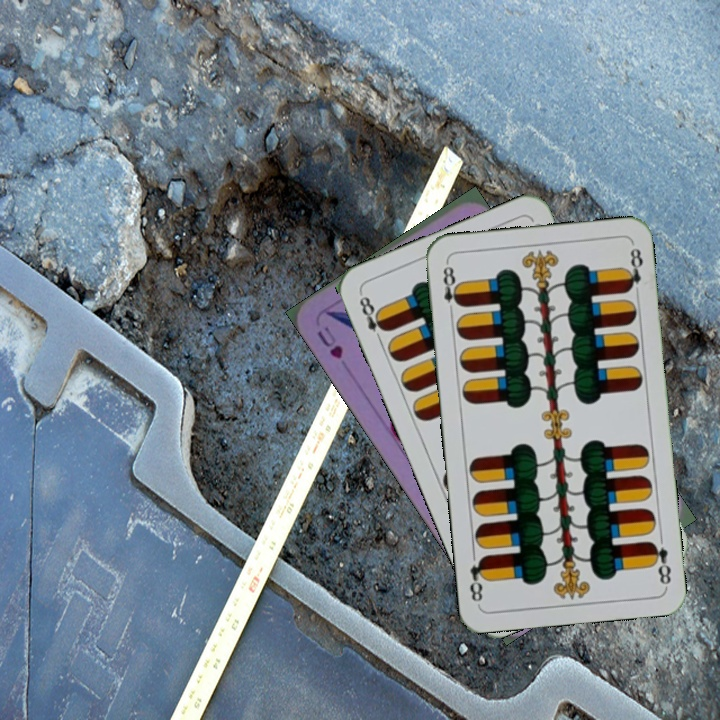E8: (353, 289, 390, 346), (439, 259, 464, 318), (646, 537, 674, 589)
HU: (313, 322, 346, 362)
